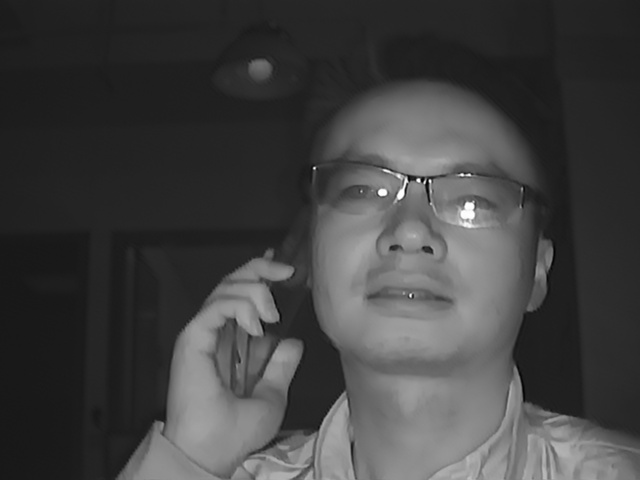hand: (159, 251, 308, 451)
